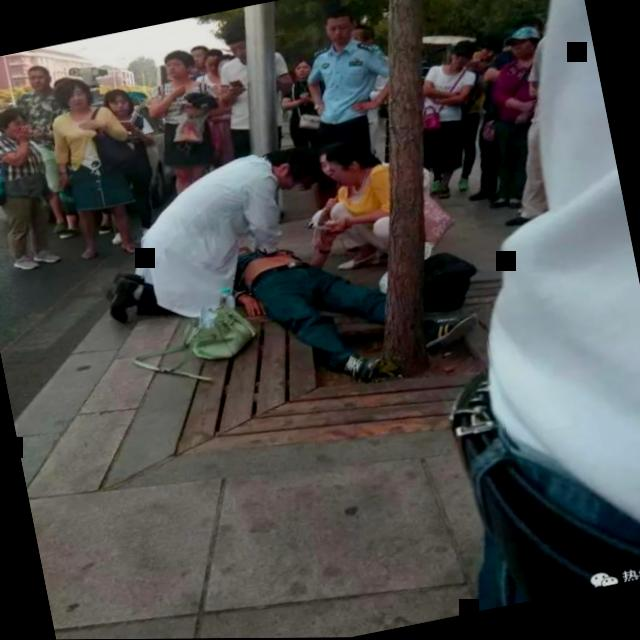Fall-Detected: (211, 196, 478, 414)
